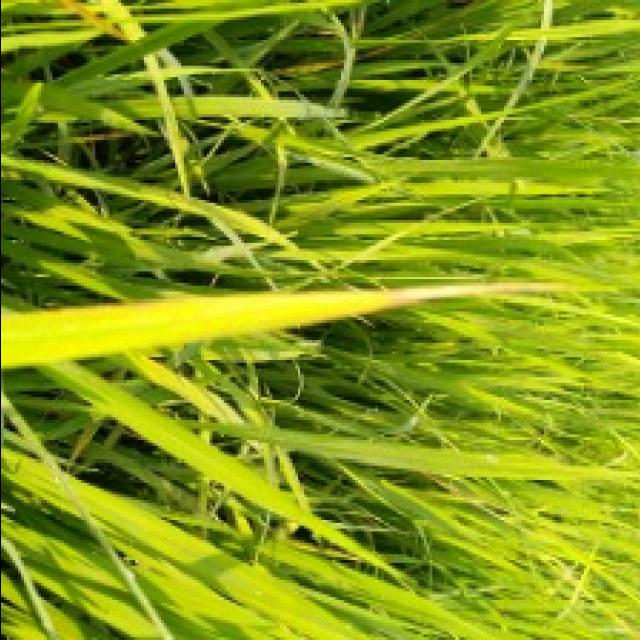Unhealthy: (339, 282, 612, 313)
